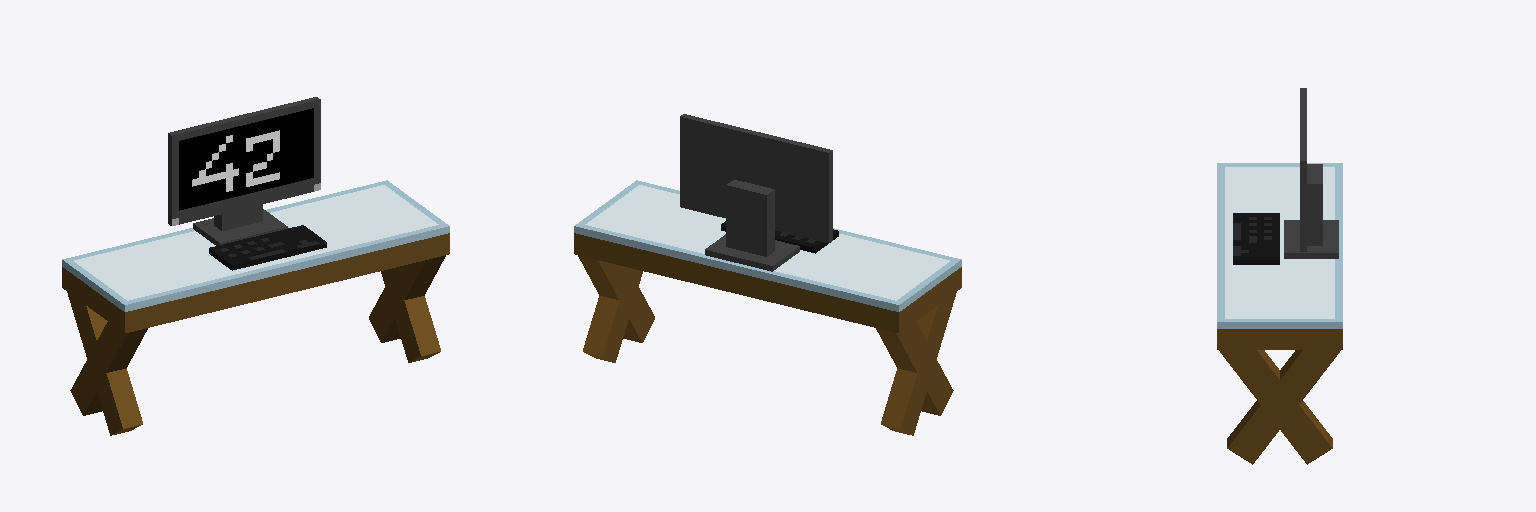
3 views of the same model, side by side, from view 1: azimuth 30°, elevation 25°; view 2: azimuth 150°, elevation 25°; view 3: azimuth 270°, elevation 25° (orthographic).
Parts seen in each view (by area): view 1: cuboid; view 2: cuboid; view 3: cuboid.
Part boxes in pixels (x1,y1,x2,y2): cuboid: (62, 97, 449, 435); cuboid: (574, 114, 961, 435); cuboid: (1217, 88, 1342, 464).
Size of the model in its own units: 3 by 2.31 by 1.
1 materials, 1 textured.